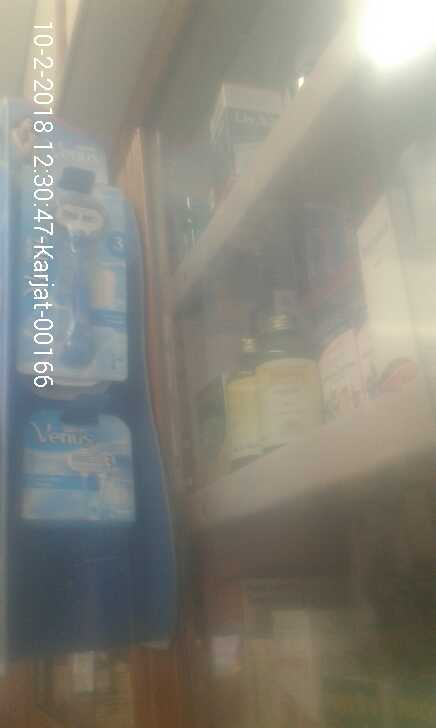venus: (24, 170, 133, 387), (16, 409, 136, 524)
